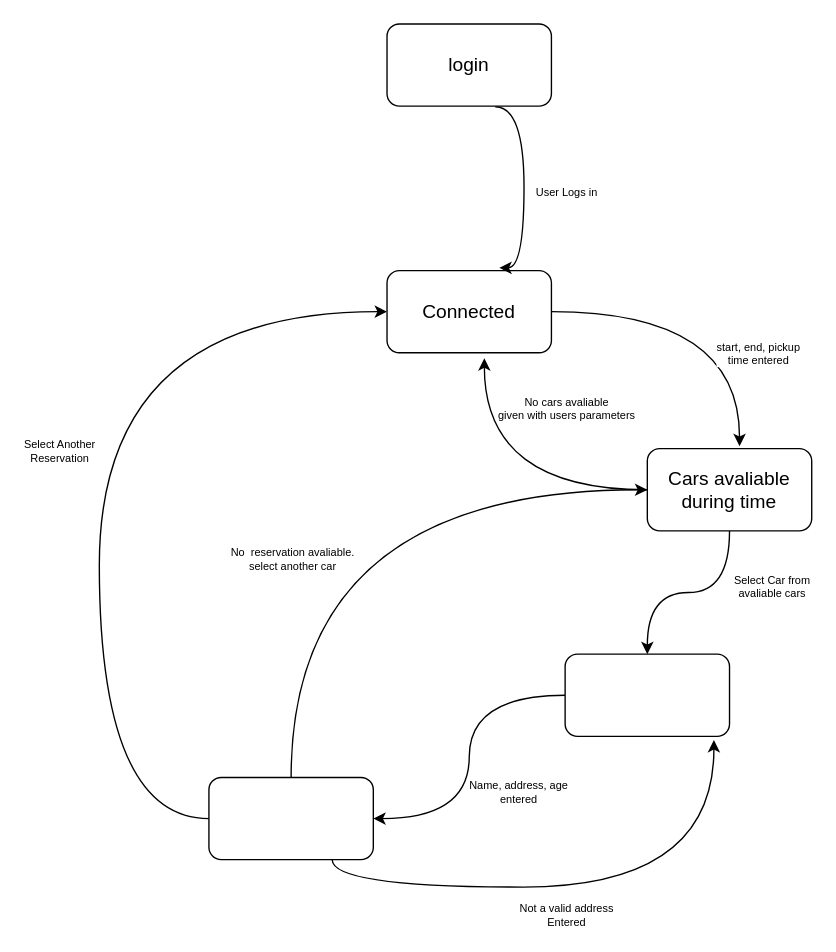
This 836x952 diagram has some shape labels left out. The shapes that lost their labels are listed below. From the top down, each one's box as (x1, y1, x2, y2) in pixels, then its label:
(564, 653, 730, 736): Car selected
(208, 776, 373, 860): Reservation set
